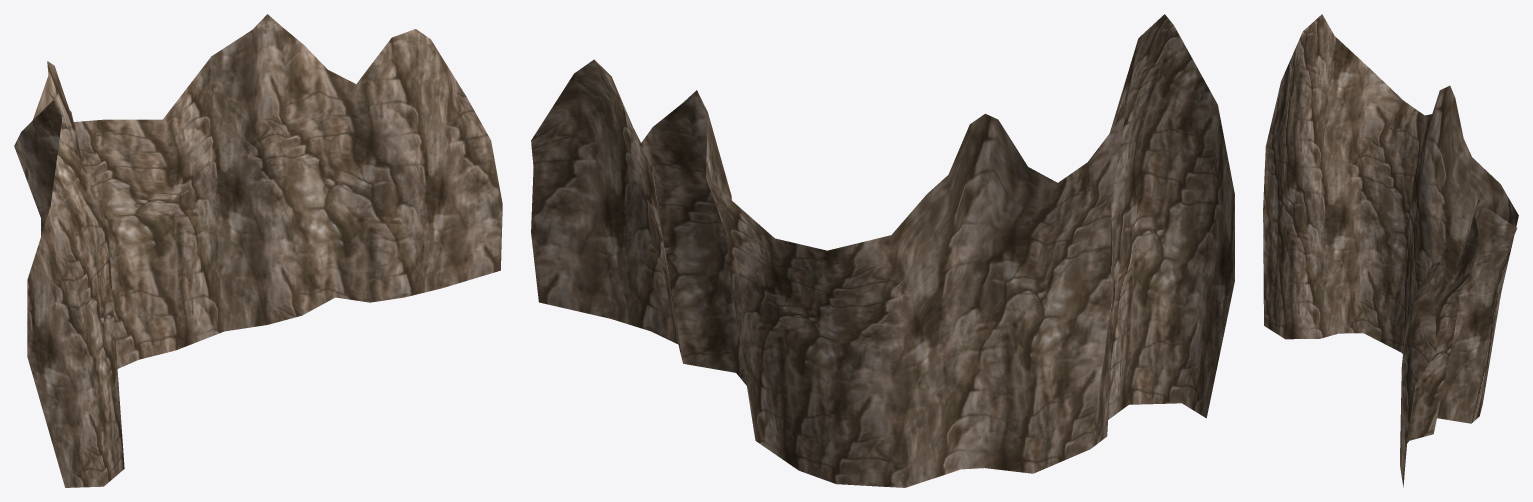
Rendered from OVERHILL_A_01_MOUNTAIN_BACKDROP_02.fbx.
The picture shows the model from 3 angles, left to right: view 1: azimuth 30°, elevation 25°; view 2: azimuth 150°, elevation 25°; view 3: azimuth 270°, elevation 25°; orthographic projection. The views are drawn at different scales.
Visible parts, largest first — view 1: OVERHILL_A_01_MOUNTAIN_BACKDROP_02; view 2: OVERHILL_A_01_MOUNTAIN_BACKDROP_02; view 3: OVERHILL_A_01_MOUNTAIN_BACKDROP_02.
Boxes of the visible parts, box(x1,y1,x2,y2) form: OVERHILL_A_01_MOUNTAIN_BACKDROP_02: box(14, 14, 502, 487); OVERHILL_A_01_MOUNTAIN_BACKDROP_02: box(531, 14, 1234, 487); OVERHILL_A_01_MOUNTAIN_BACKDROP_02: box(1263, 14, 1518, 487).
Size of the model in its own units: 307971 by 209150 by 154013.
1 material, 1 textured.
